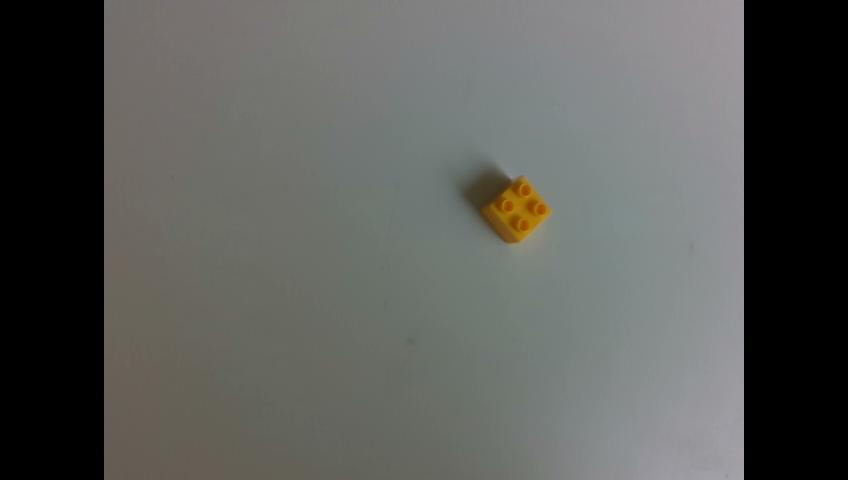2x2_yellow: (479, 174, 551, 243)
